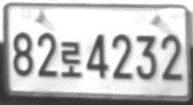2: (36, 31, 58, 78), (111, 33, 133, 80), (161, 33, 183, 80)
3: (135, 35, 157, 80)
4: (87, 33, 109, 80)
8: (12, 31, 33, 76)
로: (59, 40, 83, 77)
